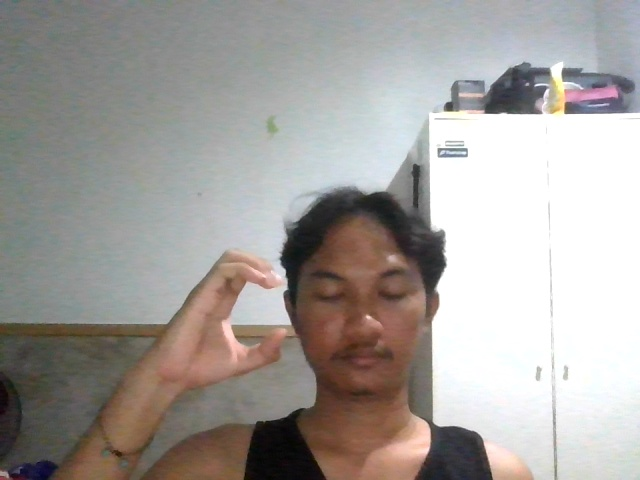c: (151, 239, 291, 394)
